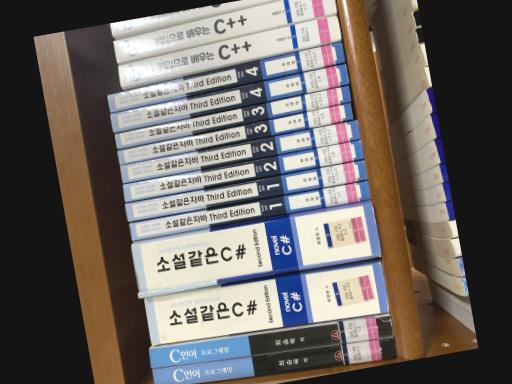book-spine: (131, 201, 382, 295), (144, 259, 388, 344), (107, 41, 345, 112), (118, 13, 341, 87), (111, 62, 349, 131), (120, 118, 360, 181), (115, 84, 352, 147), (123, 138, 363, 200), (129, 179, 371, 240), (125, 160, 367, 221), (118, 101, 352, 163), (113, 0, 336, 62), (149, 313, 394, 367), (153, 336, 398, 384), (111, 0, 266, 35)
